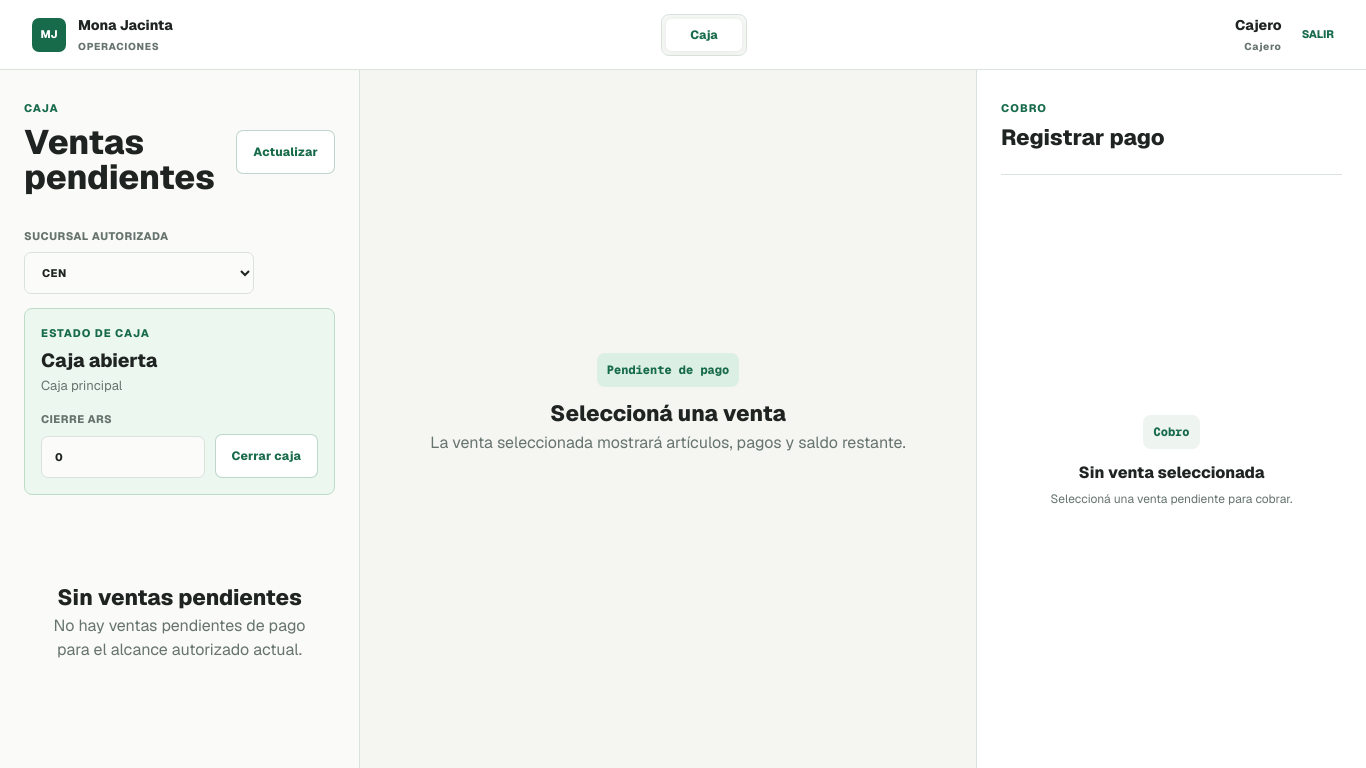
cash current-state answers never cross branches or overtake newer answers › R03 returning to the branch, a stale answer never overtakes the fresh one
expect the text "Caja principal" is shown: met, box [41,377,122,394]
expect the heading "Caja abierta" is shown: met, box [41,348,157,373]
Replace the text in the field labelled "Cierre ARS" with "2000" at (123, 457), box [41,436,204,478]
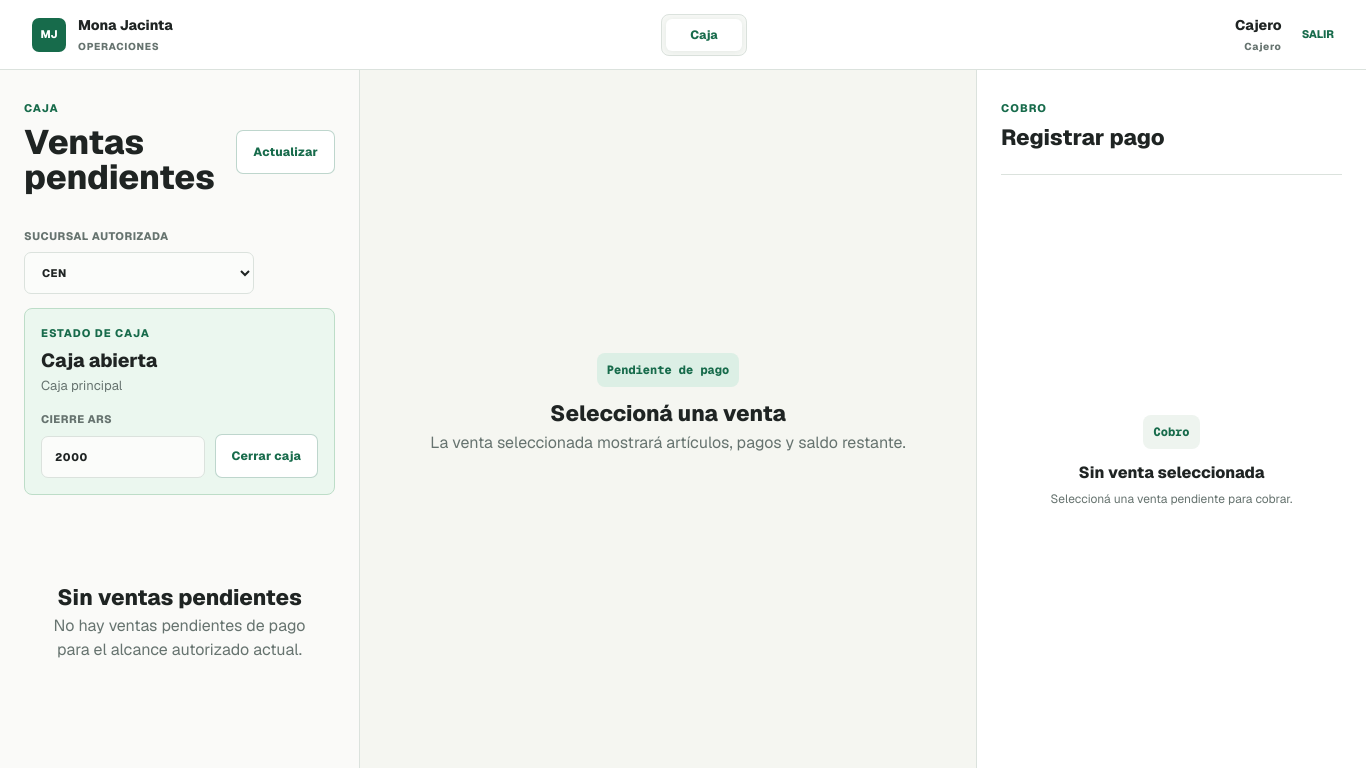
Click the button "Cerrar caja" at (266, 456), box [214,434,318,478]
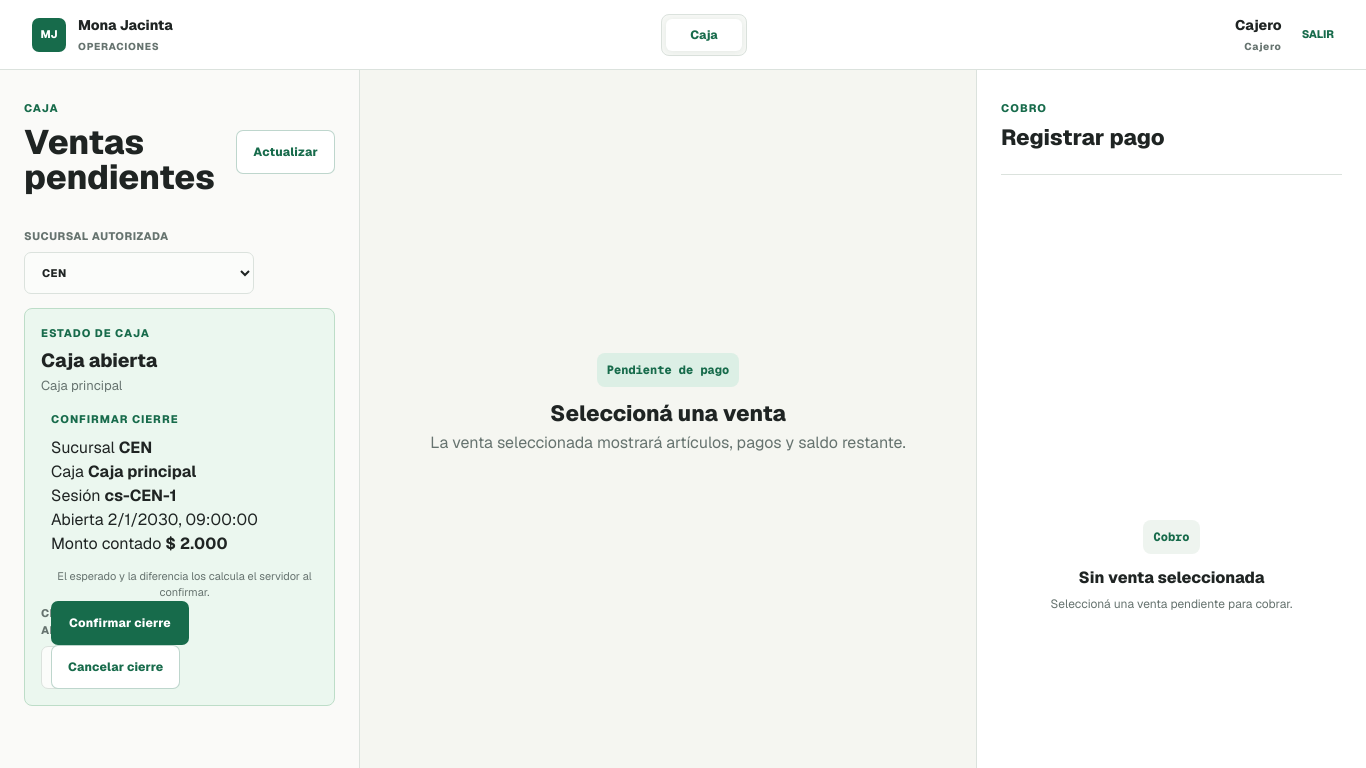
Click the button "Confirmar cierre" at (120, 623), box [51,601,189,645]
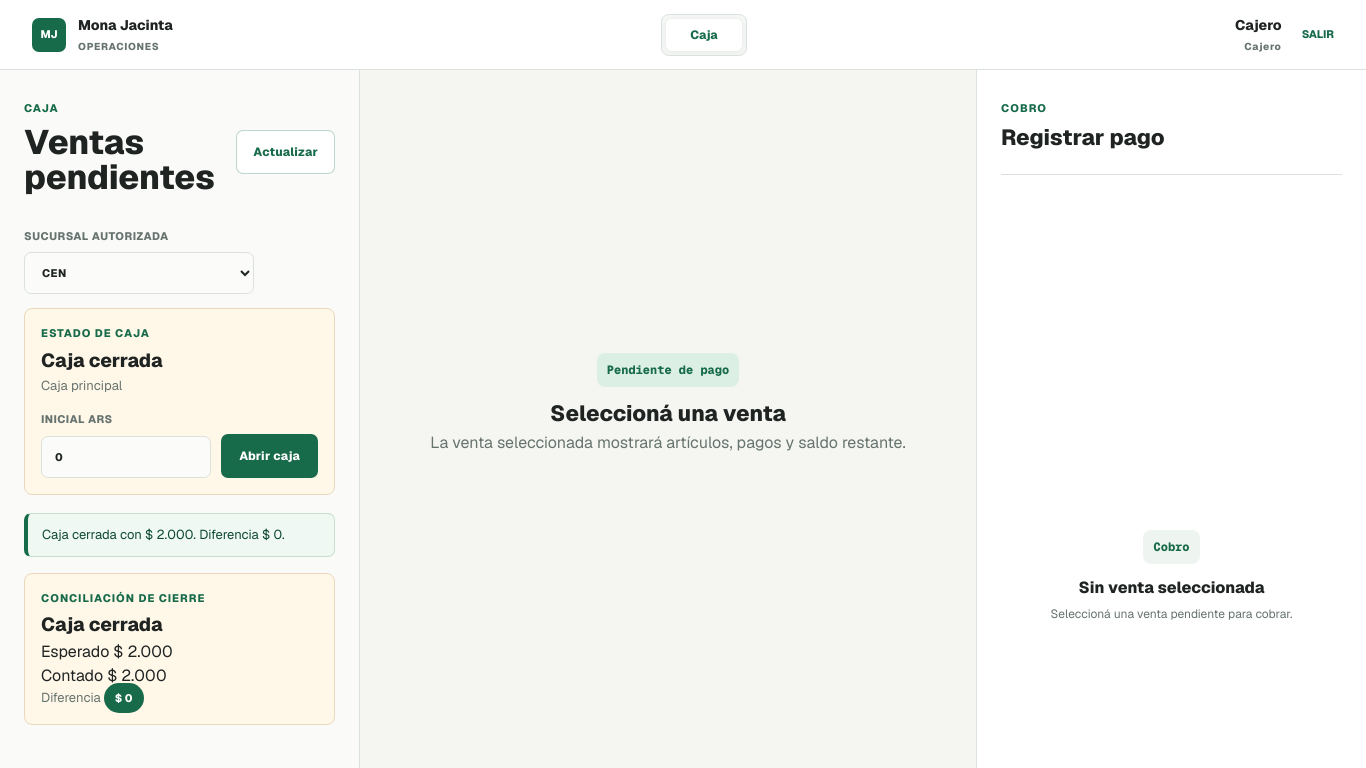
Select "DEP" in the dropdown labelled "Sucursal autorizada" at (139, 273), box [24,252,254,294]
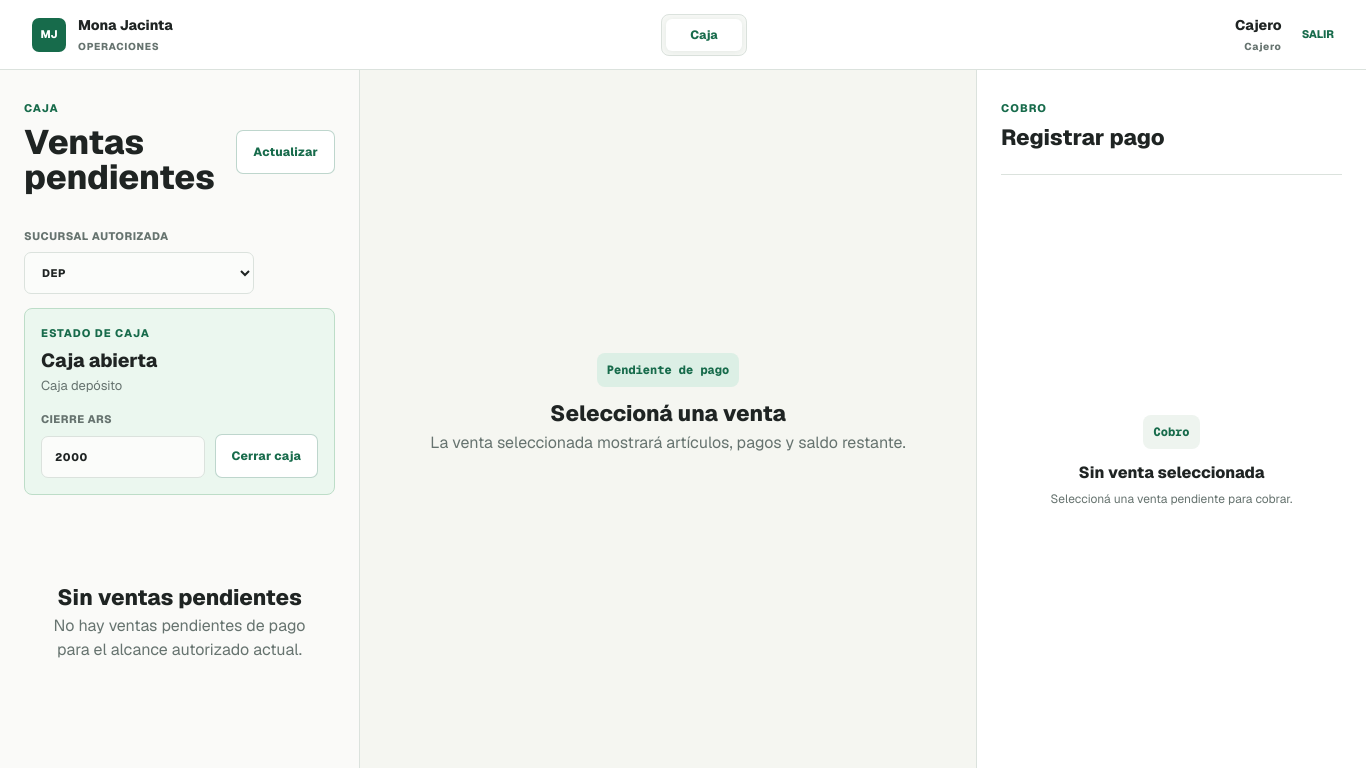
expect the heading "Caja abierta" is shown: met, box [41,348,157,373]
expect the text "Caja depósito" is shown: met, box [41,377,122,394]
Select "CEN" in the dropdown labelled "Sucursal autorizada" at (139, 273), box [24,252,254,294]
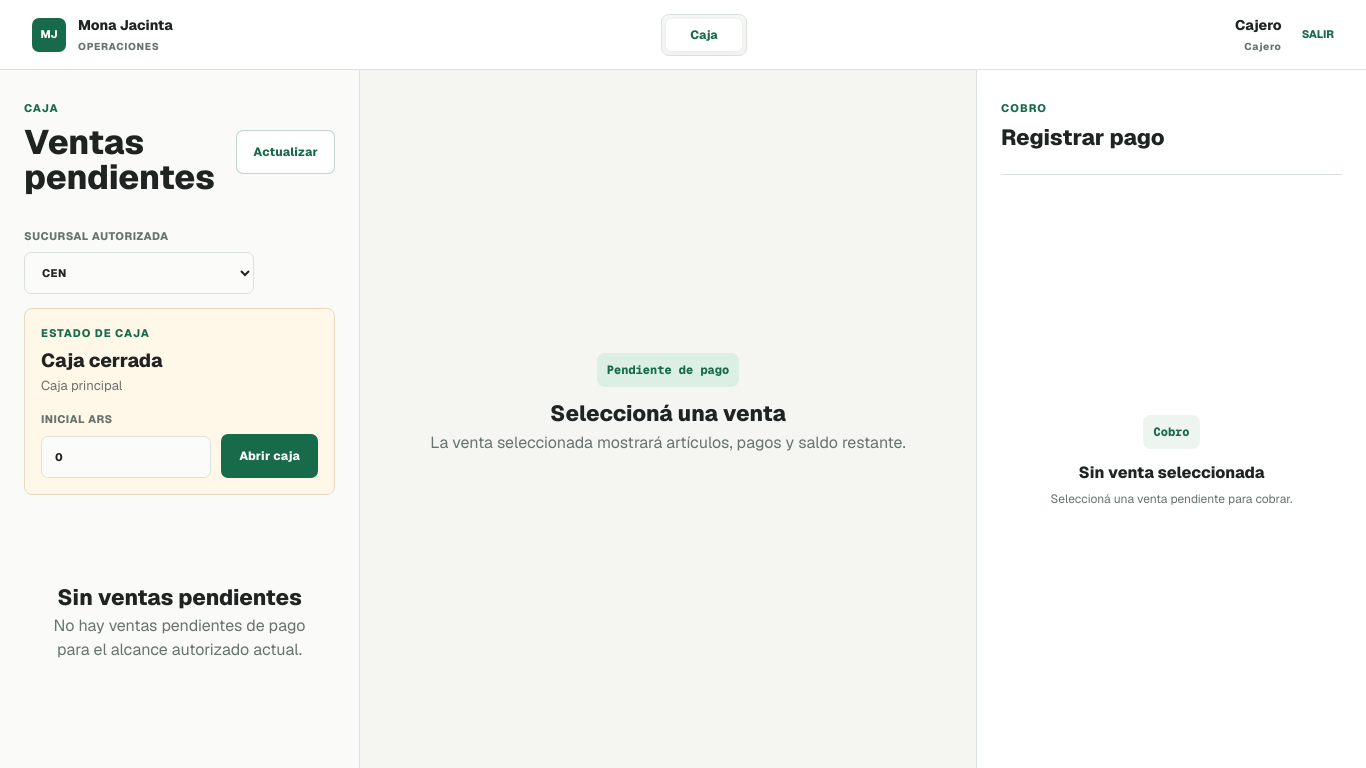
expect the button "Actualizar" is enabled: met, box [236,130,335,174]
expect the text "Caja principal" is shown: met, box [41,377,122,394]
expect the button "Cerrar caja" is gone: met
